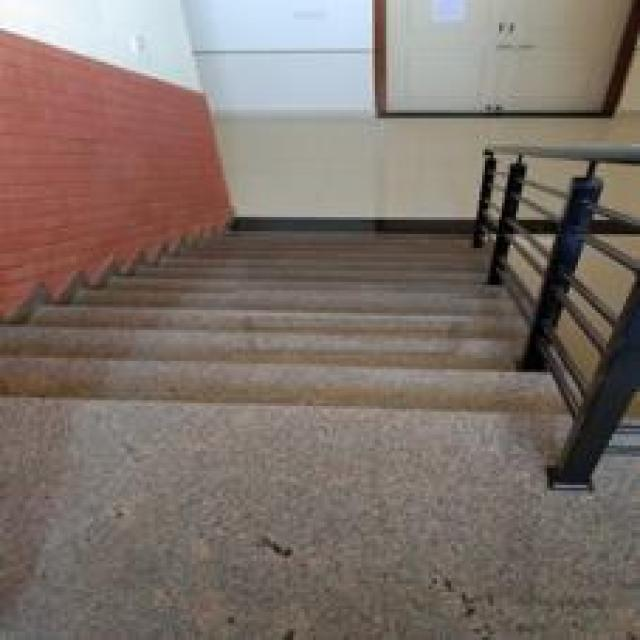downstair: (57, 269, 472, 469)
